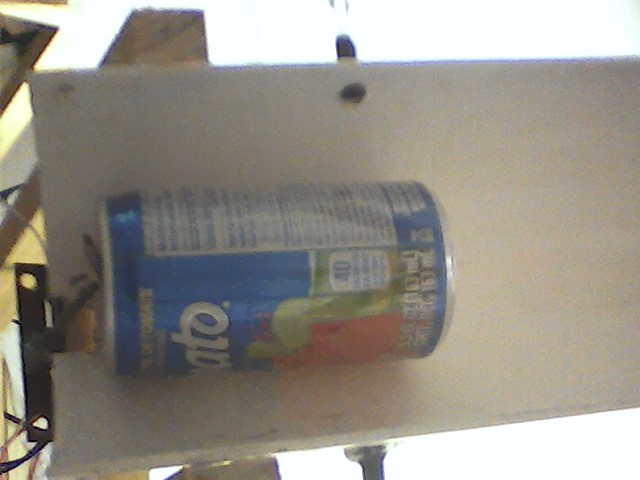lata: (91, 178, 464, 383)
